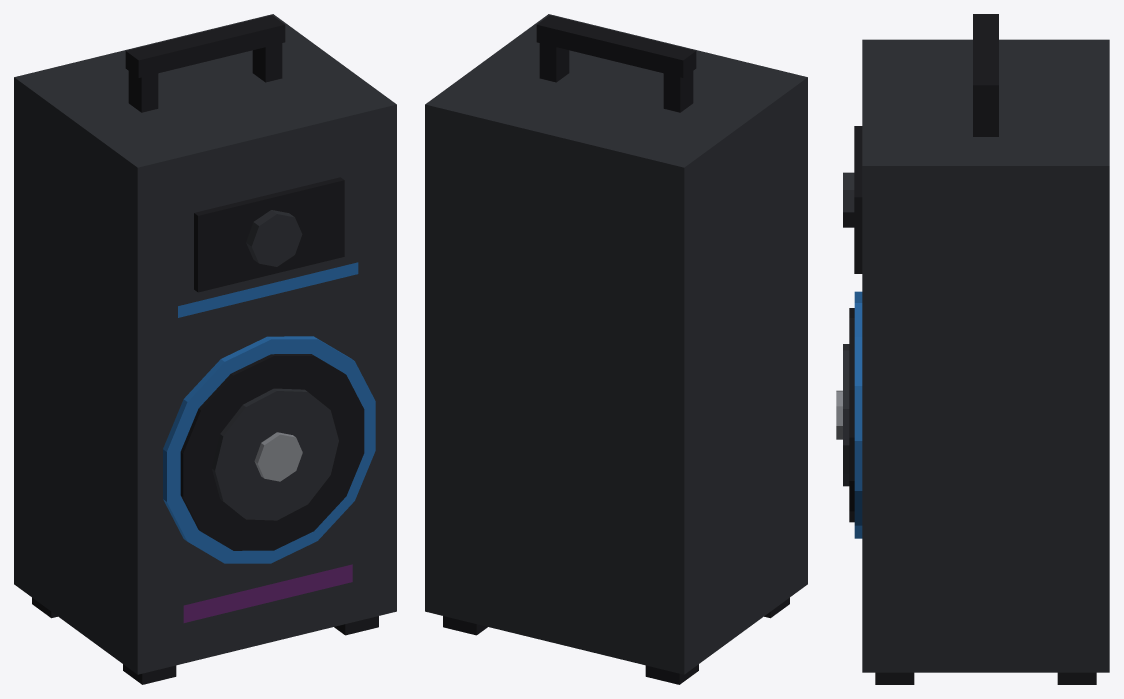
File: prop_speaker.glb
The picture shows the model from 3 angles, left to right: view 1: azimuth 30°, elevation 25°; view 2: azimuth 150°, elevation 25°; view 3: azimuth 270°, elevation 25°; orthographic projection.
Parts seen in each view (by area): view 1: body; view 2: body; view 3: body.
Part boxes in pixels (x1,y1,x2,y2): body: (14, 14, 396, 684); body: (425, 14, 807, 684); body: (836, 14, 1109, 684).
Size of the model in its own units: 0.46 by 0.98 by 0.42.
